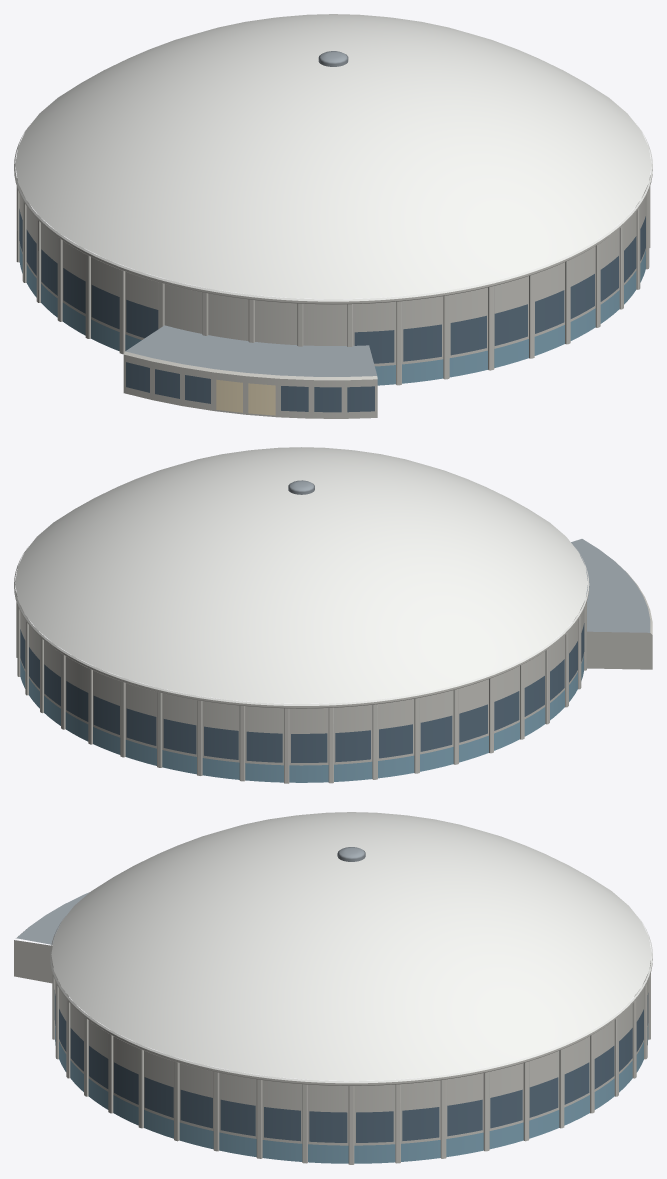
The model's file is bojangles-coliseum.glb.
The picture shows the model from 3 angles, top to bottom: view 1: azimuth 30°, elevation 25°; view 2: azimuth 150°, elevation 25°; view 3: azimuth 270°, elevation 25°; orthographic projection. The views are drawn at different scales.
Parts seen in each view (by area): view 1: Bojangles Coliseum; view 2: Bojangles Coliseum; view 3: Bojangles Coliseum.
Part boxes in pixels (x1,y1,x2,y2): Bojangles Coliseum: [14, 14, 652, 418]; Bojangles Coliseum: [14, 447, 652, 783]; Bojangles Coliseum: [14, 812, 652, 1164].
Bounding box in the file's own units: 106 × 35.06 × 108.
